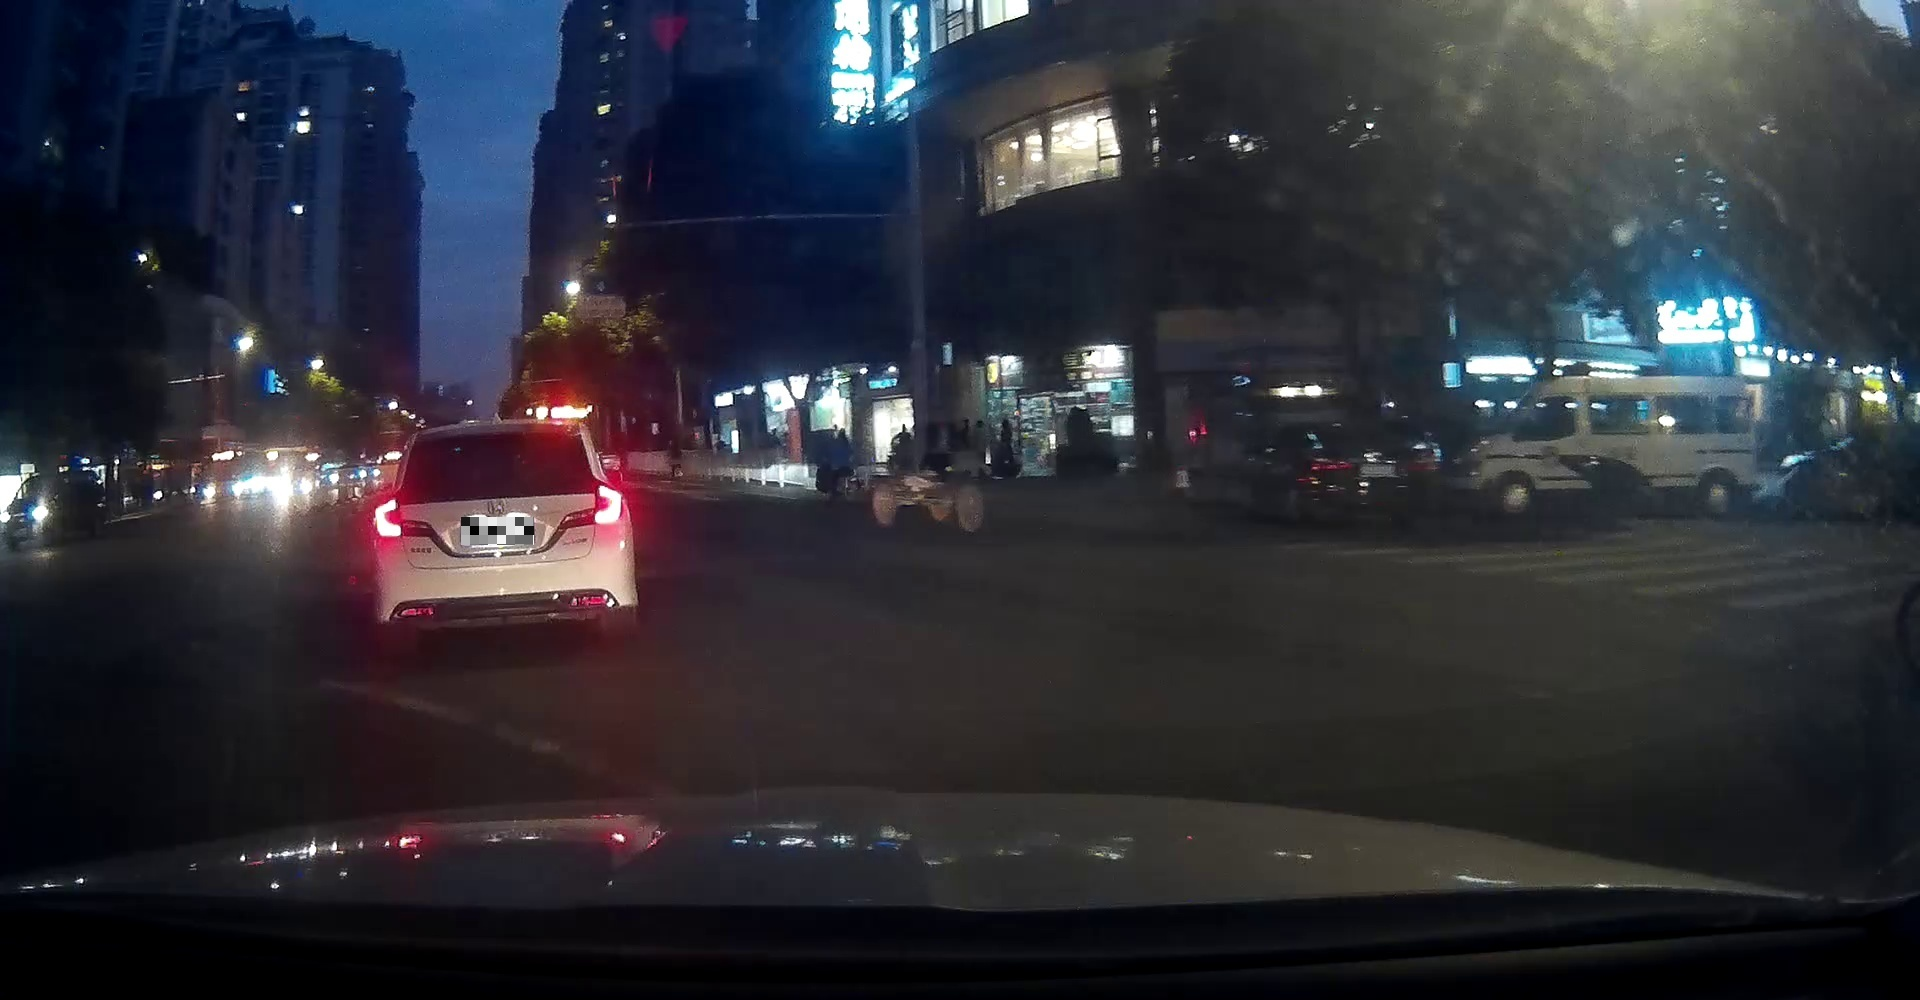L_light: (375, 497, 401, 544)
R_light: (596, 484, 622, 525)
T_light: (490, 431, 508, 440)
night-no: (375, 419, 637, 659)
plate_1: (461, 516, 535, 544)
